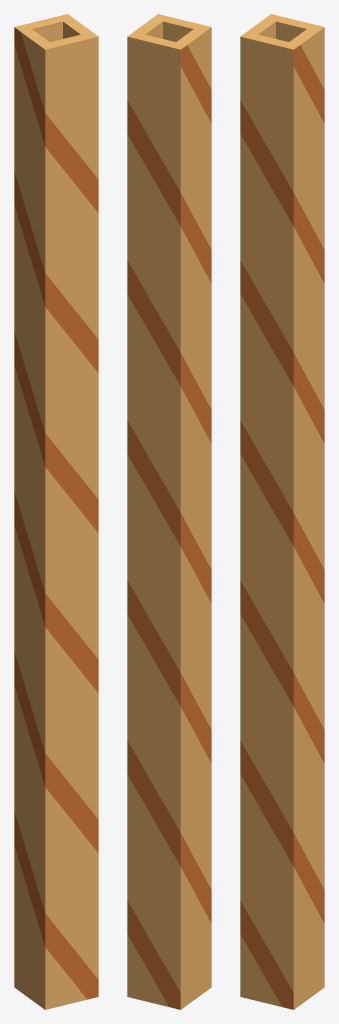
Rendered from CandylandWafflePipe.fbx.
3 renders of one model, left to right at view 1: azimuth 30°, elevation 25°; view 2: azimuth 150°, elevation 25°; view 3: azimuth 330°, elevation 25°, orthographic.
Visible parts, largest first — view 1: CandylandWafflePipe; view 2: CandylandWafflePipe; view 3: CandylandWafflePipe.
Boxes of the visible parts, x1,y1,x2,y2 form: CandylandWafflePipe: (14,14,98,1009); CandylandWafflePipe: (127,14,211,1009); CandylandWafflePipe: (240,14,324,1009).
Size of the model in its own units: 0.0868 by 1.49 by 0.0868.
